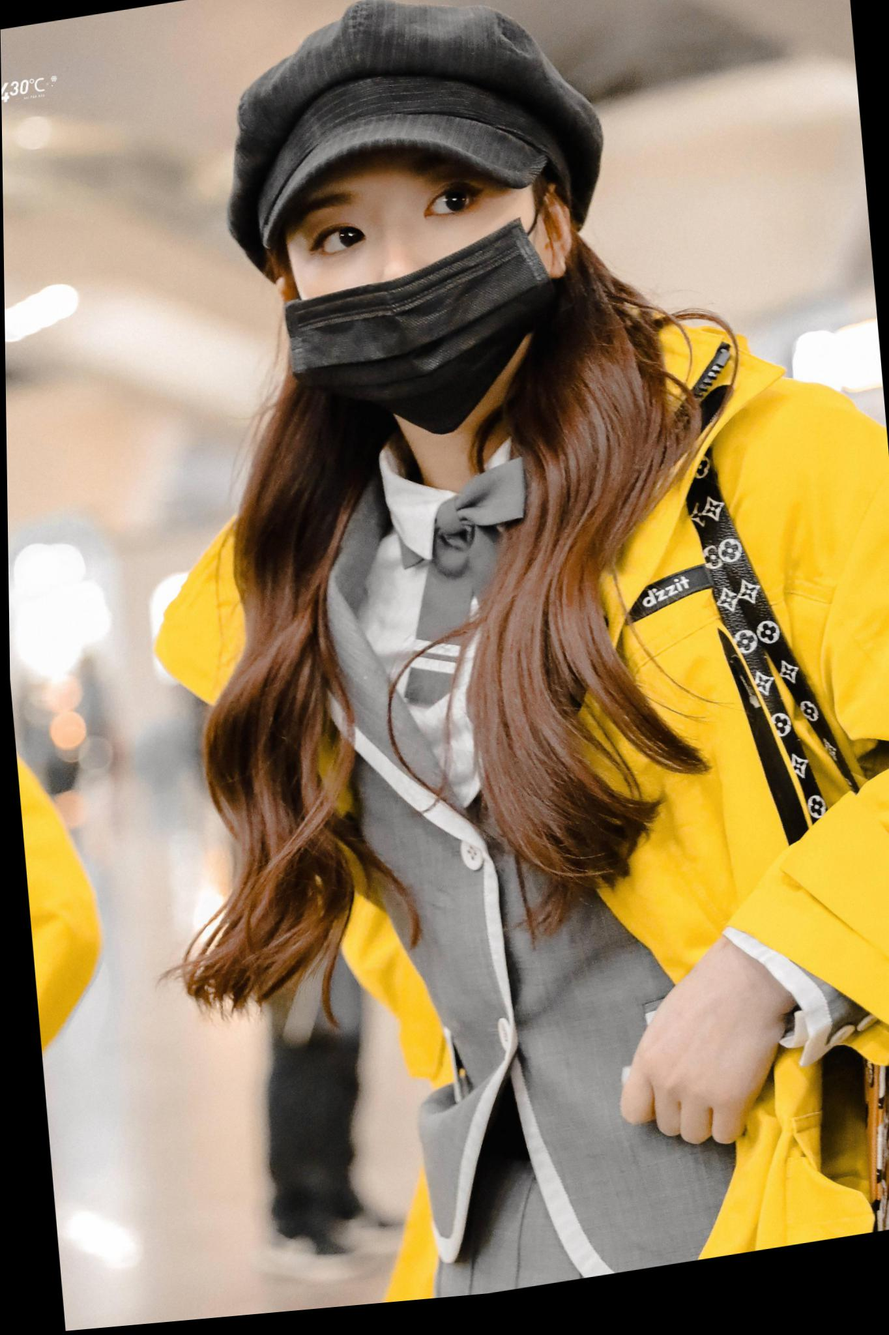WRONG: (276, 161, 556, 465)
